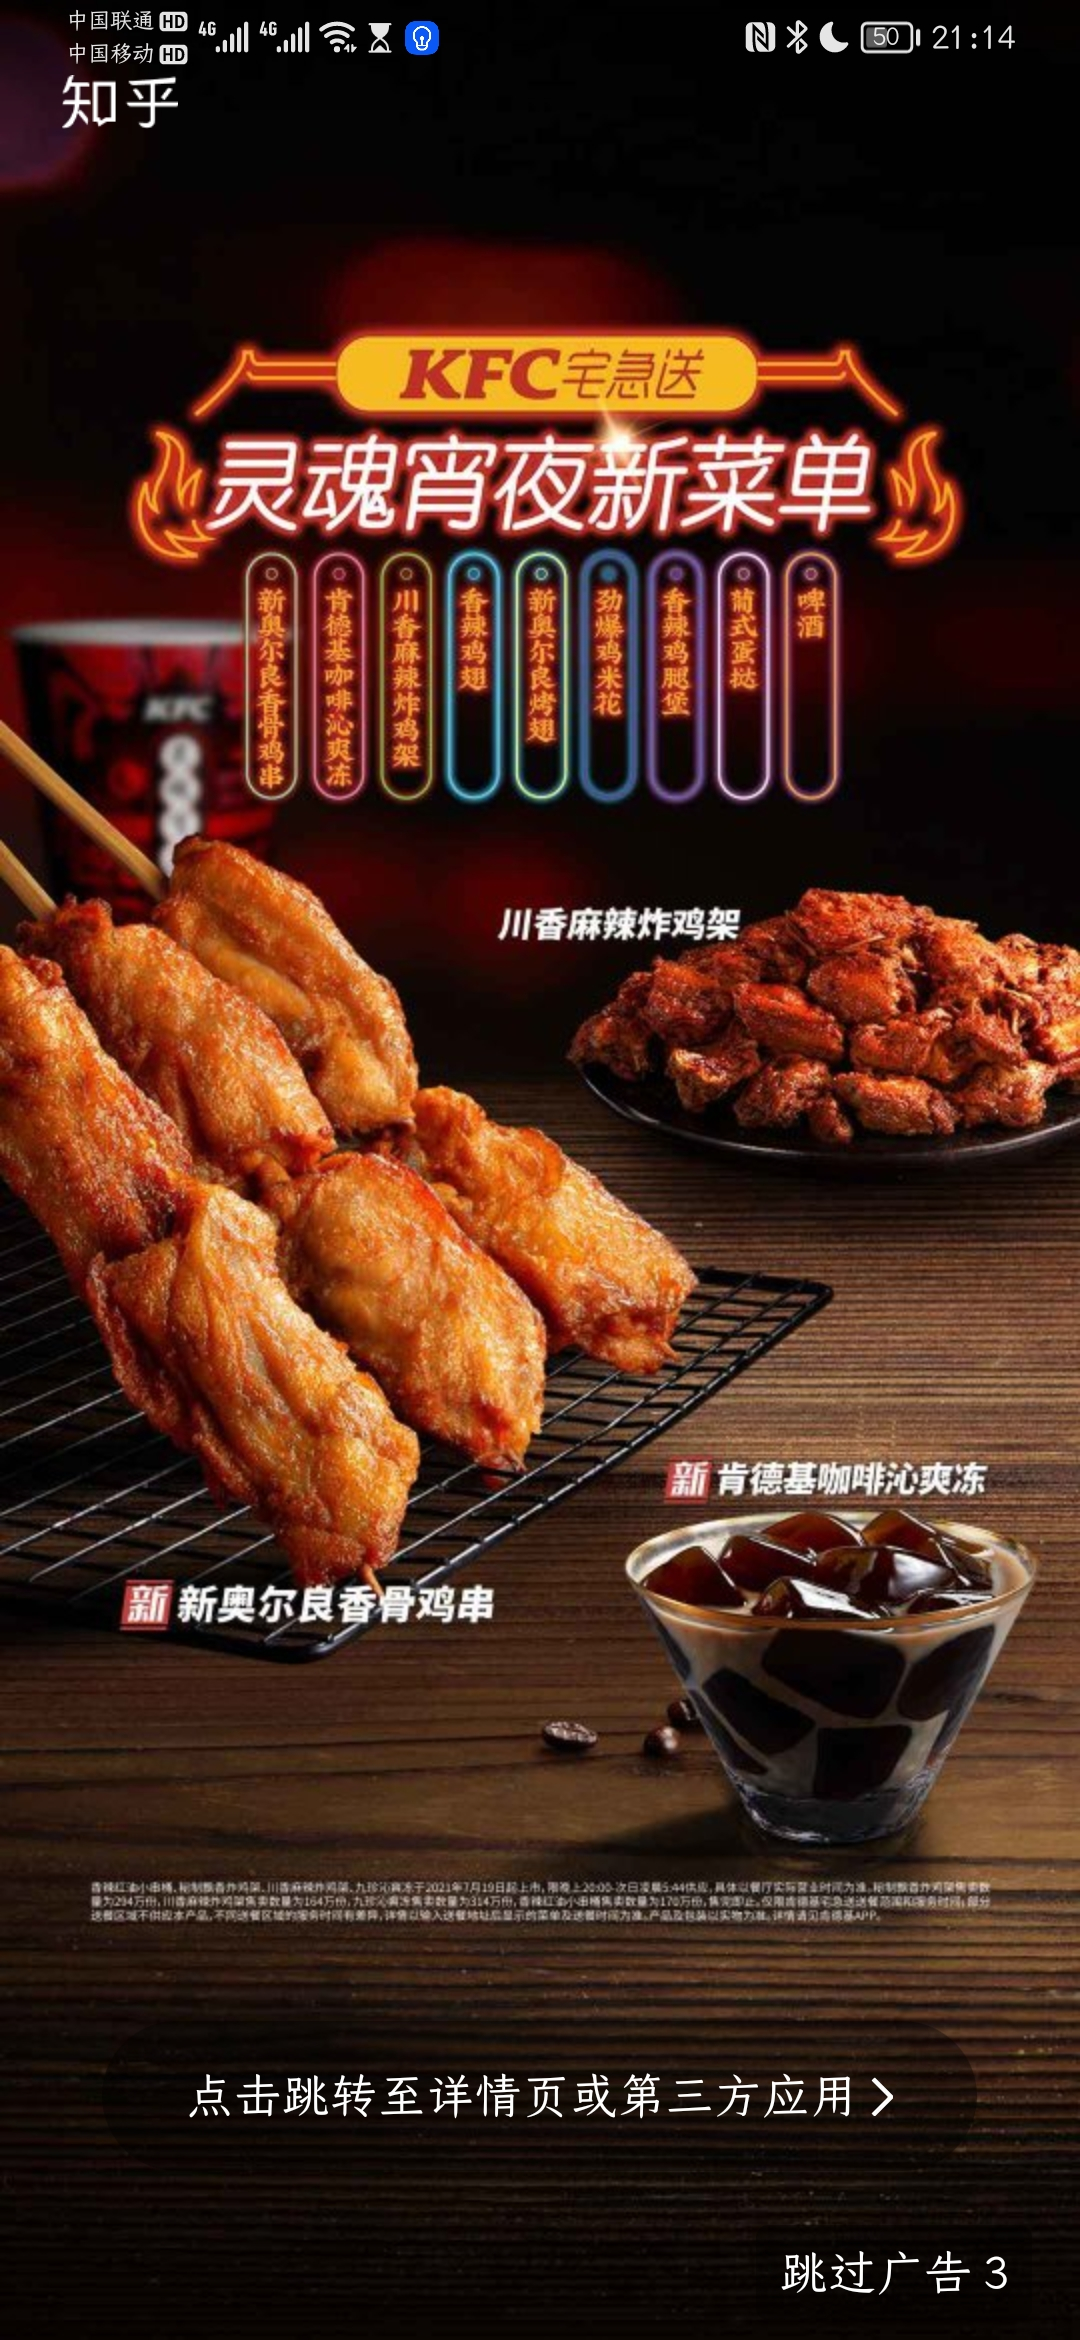skip: (765, 2244, 1020, 2313)
